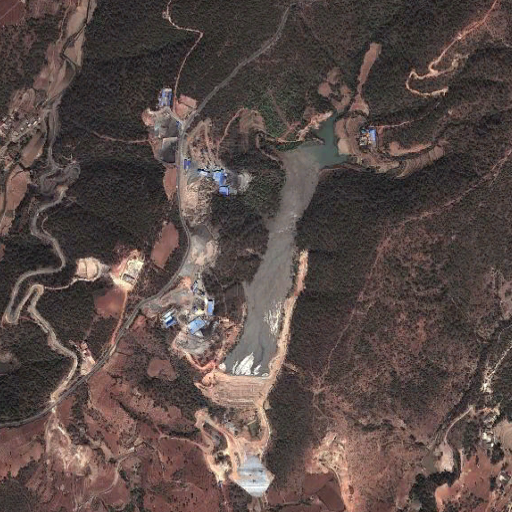tp: (214, 111, 347, 410)
